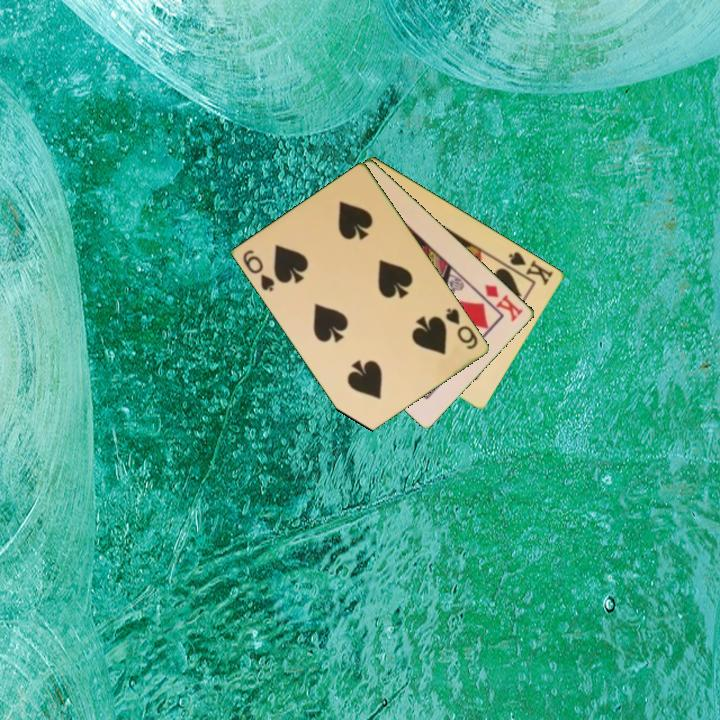6s: (442, 304, 481, 352), (240, 246, 278, 295)
Kd: (482, 280, 527, 325)
Ks: (501, 248, 557, 288)
